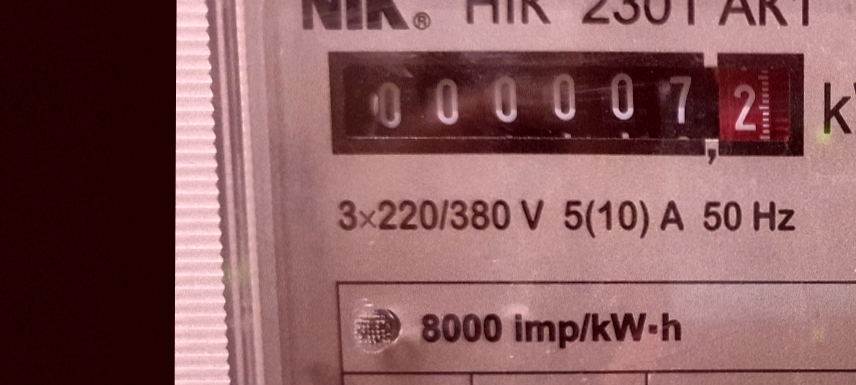0: (428, 73, 463, 126), (605, 70, 637, 122), (489, 71, 520, 124), (547, 69, 578, 122), (372, 78, 404, 129)
2: (728, 82, 759, 133)
7: (664, 71, 693, 126)
screen: (309, 31, 823, 175)
